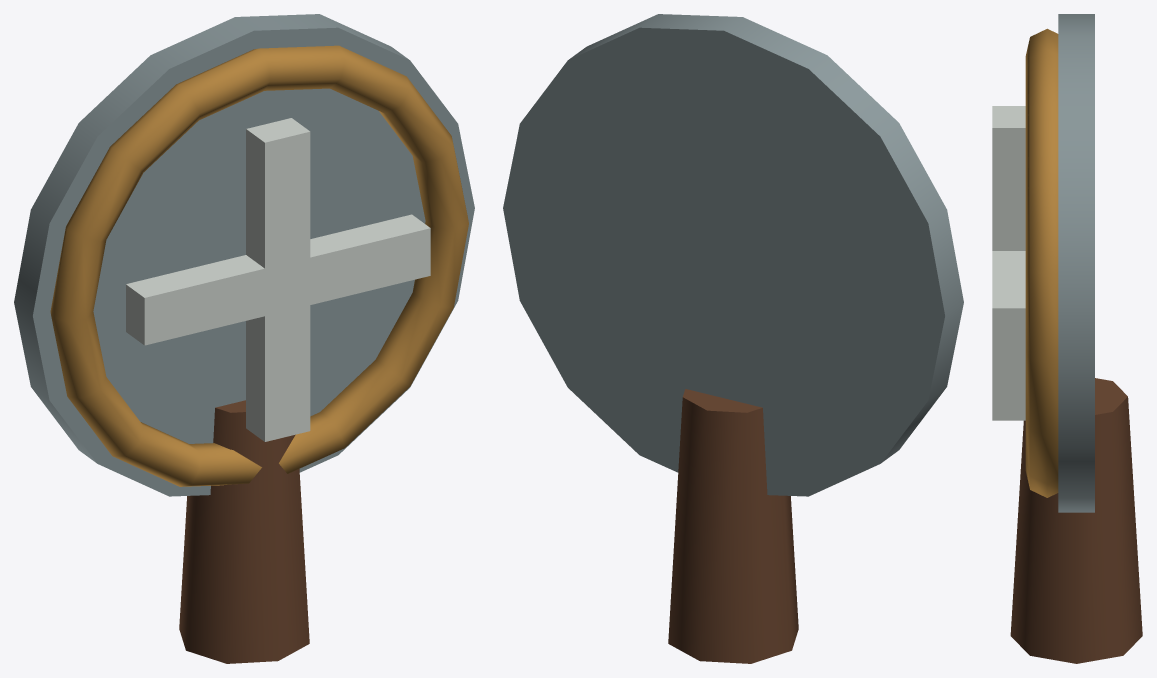
File: holy-emblem.glb
The picture shows the model from 3 angles, left to right: view 1: azimuth 30°, elevation 25°; view 2: azimuth 150°, elevation 25°; view 3: azimuth 270°, elevation 25°; orthographic projection. The views are drawn at different scales.
Parts seen in each view (by area): view 1: emblem-disc, emblem-rim, emblem-mark (×2), emblem-handle; view 2: emblem-disc, emblem-handle; view 3: emblem-handle, emblem-disc, emblem-rim, emblem-mark (×2).
Boxes of the visible parts, x1,y1,x2,y2 form: emblem-disc: [14, 14, 474, 496]; emblem-rim: [50, 45, 468, 486]; emblem-mark (×2): [126, 118, 430, 441]; emblem-handle: [179, 400, 309, 663]; emblem-disc: [503, 14, 963, 496]; emblem-handle: [668, 389, 798, 663]; emblem-handle: [1010, 378, 1142, 663]; emblem-disc: [1058, 14, 1094, 512]; emblem-rim: [1025, 28, 1058, 497]; emblem-mark (×2): [992, 106, 1025, 420].
Size of the model in its own units: 0.34 by 0.45 by 0.1025.
